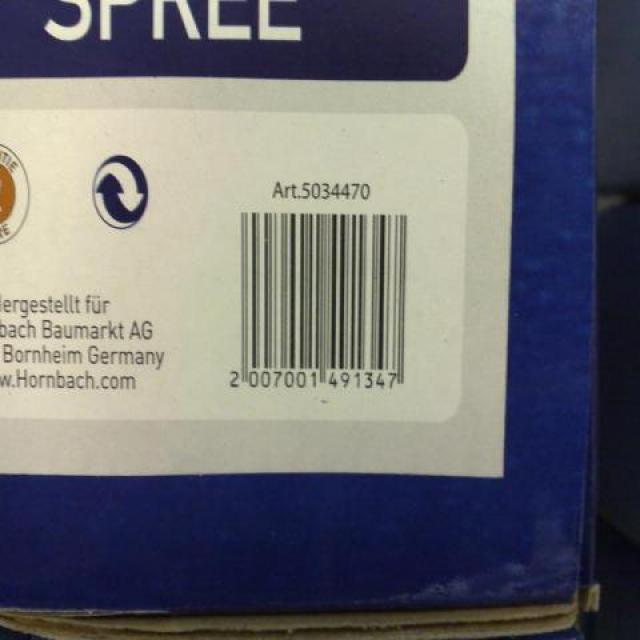Barcode: (182, 148, 449, 413)
